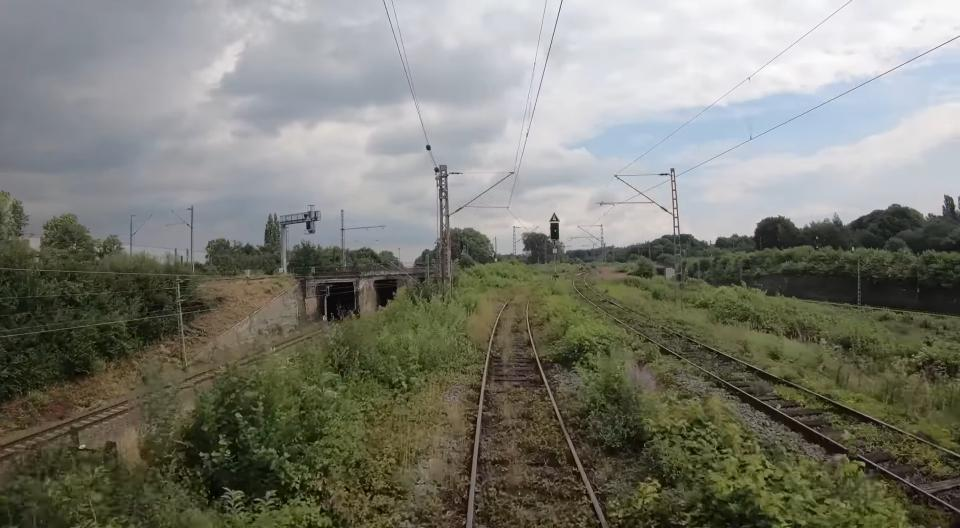Plant: (534, 283, 952, 528), (589, 281, 960, 453), (360, 285, 534, 528), (704, 355, 960, 483), (476, 381, 598, 528), (574, 281, 696, 351), (496, 300, 531, 374)
